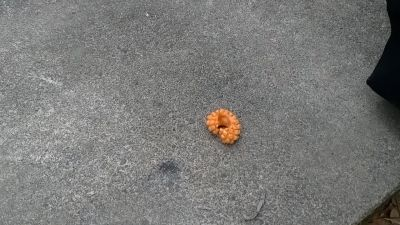eggs: (207, 105, 242, 143)
